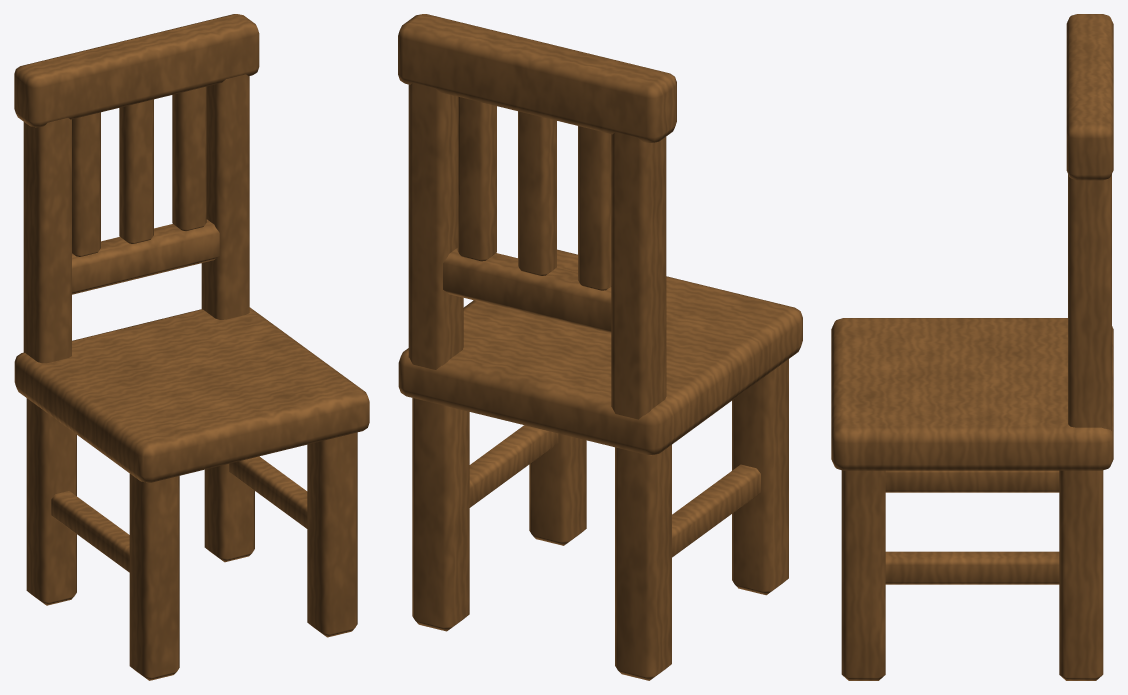
The model's file is Furn_Chair.fbx.
The picture shows the model from 3 angles, left to right: view 1: azimuth 30°, elevation 25°; view 2: azimuth 150°, elevation 25°; view 3: azimuth 270°, elevation 25°; orthographic projection. The views are drawn at different scales.
Visible parts, largest first — view 1: Furn_Chair_Mesh; view 2: Furn_Chair_Mesh; view 3: Furn_Chair_Mesh.
Boxes of the visible parts, <box> form: Furn_Chair_Mesh: <box>14,14,369,680</box>; Furn_Chair_Mesh: <box>398,14,802,680</box>; Furn_Chair_Mesh: <box>831,14,1113,680</box>.
Size of the model in its own units: 0.48 by 1.05 by 0.48.
1 material, 1 textured.
